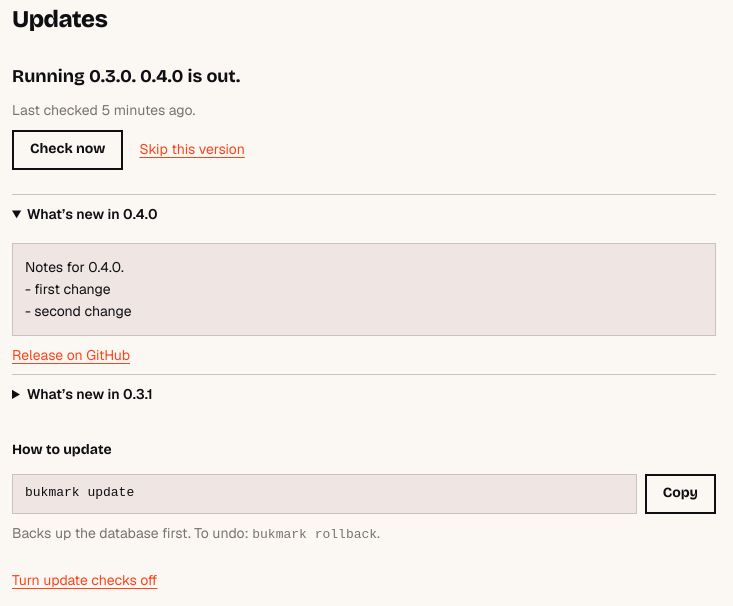
Scenario: UpdatesSection › skips the newest version, then stops skipping
Click the button "Skip this version": [192, 150] box [139,138,245,161]
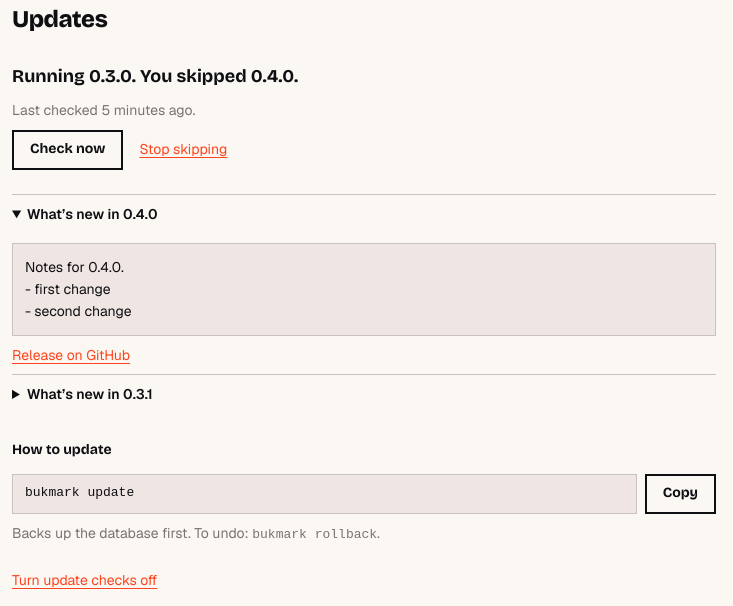
Check: the text "Running 0.3.0. You skipped 0.4.0." is shown, box [12,65,298,87]
Check: the button "Skip this version" is gone
Click the button "Stop skipping": [183, 150] box [139,138,227,161]
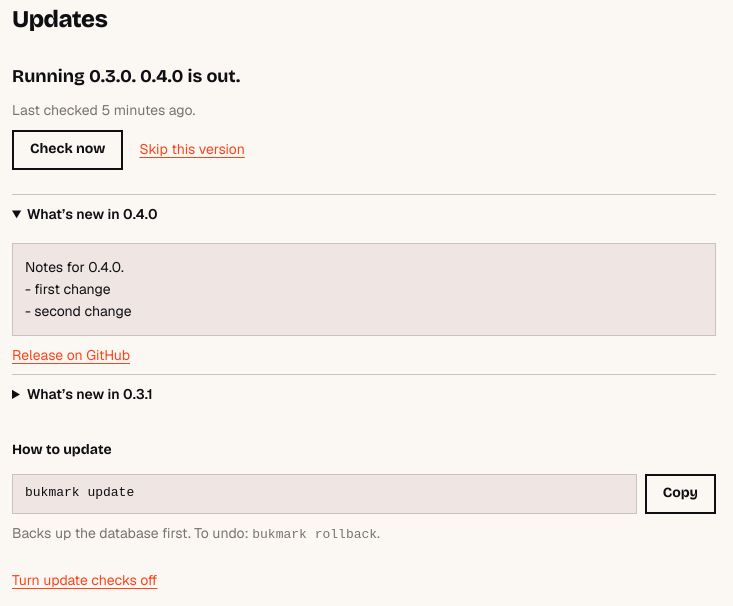
Check: the text "Running 0.3.0. 0.4.0 is out." is shown, box [12,65,240,87]
